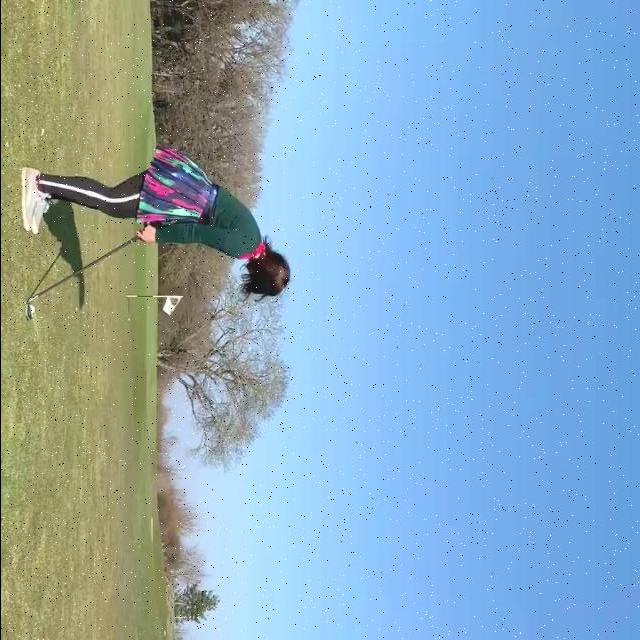ClubHandle: (24, 238, 138, 321)
ClubHead: (24, 301, 31, 321)
GolfBall: (29, 305, 33, 313)
